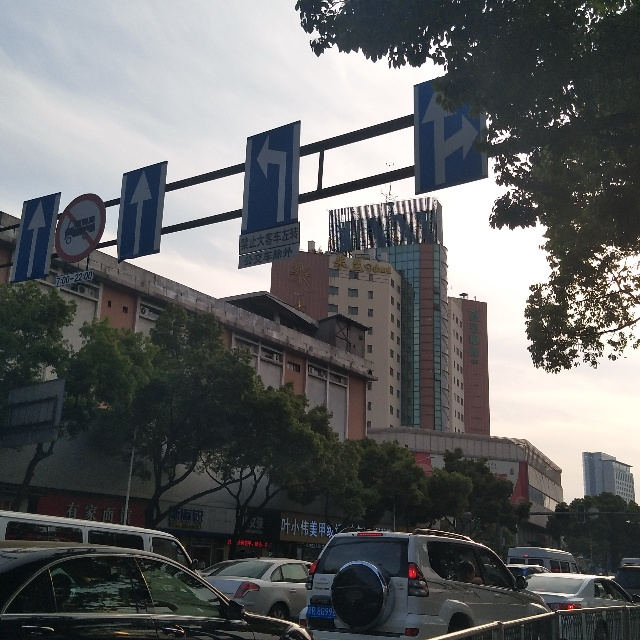left: (238, 136, 290, 227)
straight: (121, 171, 158, 261), (22, 194, 44, 279)
